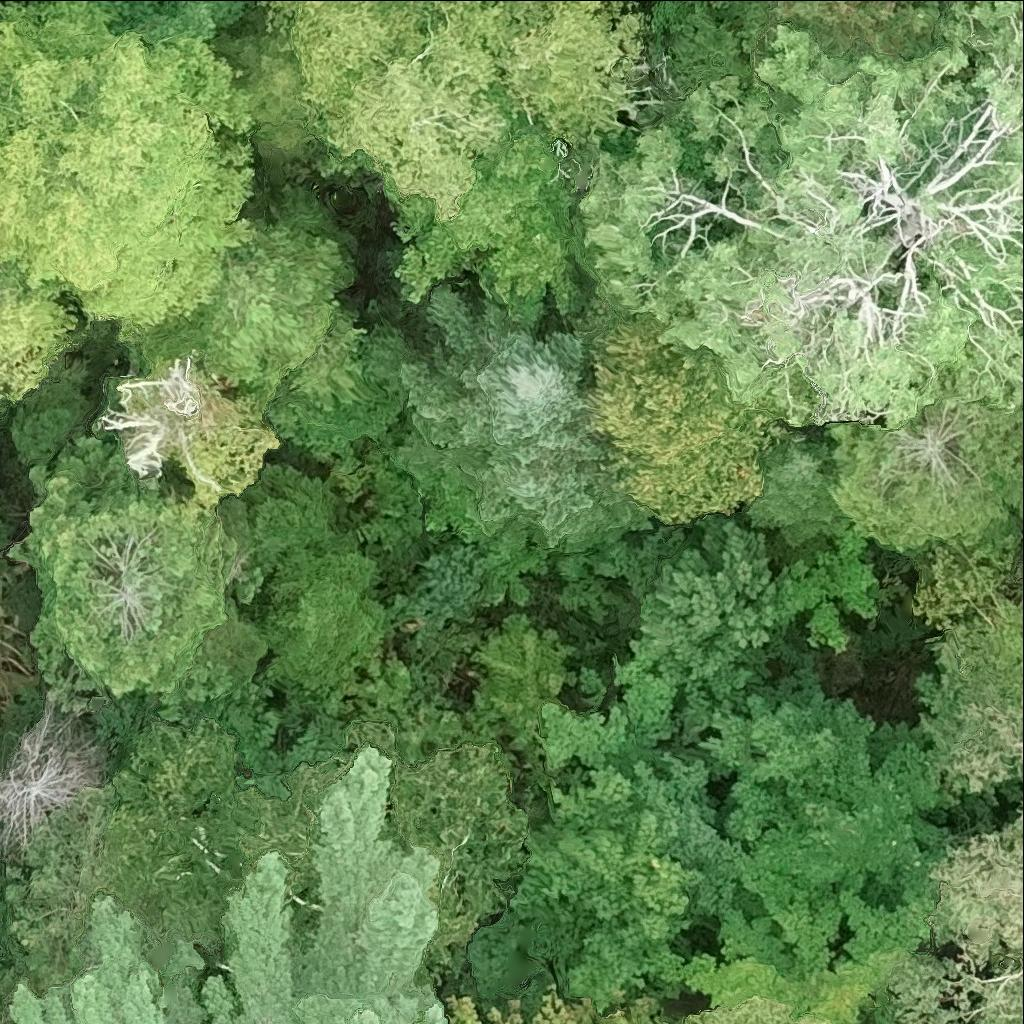crown: (587, 0, 1023, 434), (0, 0, 251, 395), (273, 0, 642, 223), (119, 226, 401, 460), (206, 751, 442, 1023), (403, 293, 627, 550), (27, 428, 240, 695), (727, 702, 952, 933), (577, 298, 790, 523), (615, 513, 800, 744), (345, 728, 519, 955), (93, 721, 252, 954), (224, 469, 385, 692), (834, 393, 1023, 560), (692, 890, 924, 1023), (97, 348, 288, 508), (0, 782, 118, 987), (16, 898, 198, 1023), (0, 692, 110, 851), (923, 600, 1023, 763), (708, 0, 953, 60), (705, 678, 842, 784), (743, 417, 849, 547), (933, 818, 1023, 966), (784, 535, 882, 653), (235, 53, 320, 150), (960, 711, 1023, 780), (537, 991, 666, 1023), (690, 997, 817, 1023), (435, 994, 484, 1023), (496, 1003, 524, 1023), (1003, 1023, 1010, 1023)
